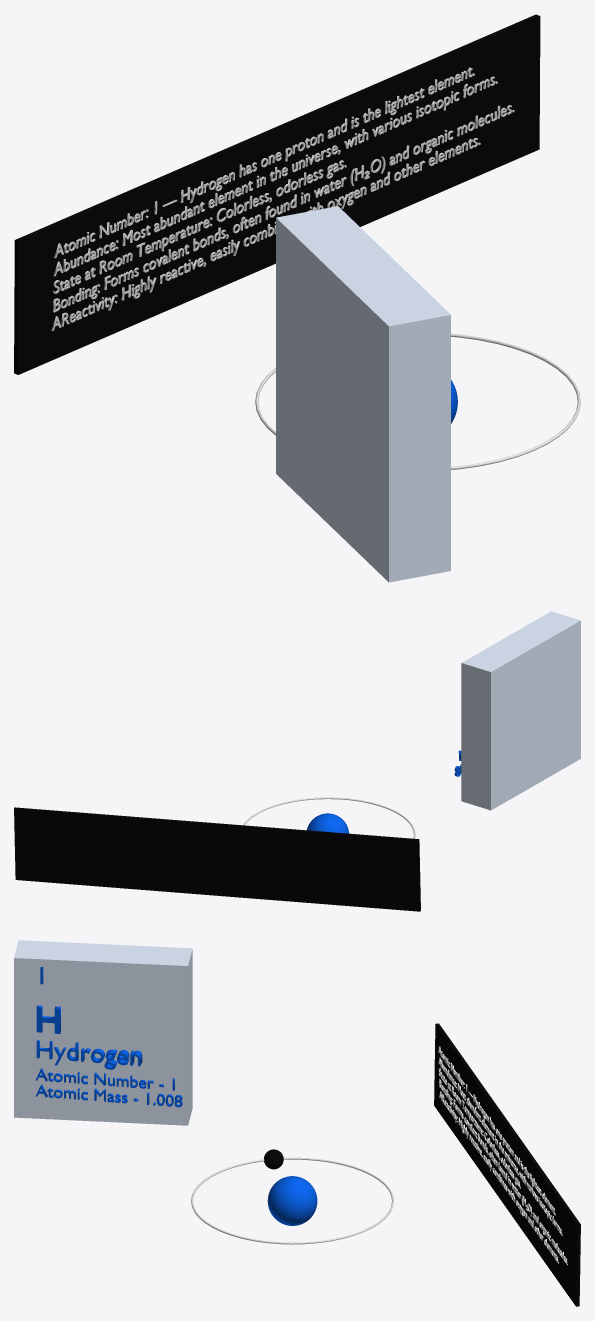
The model's file is hydrogen final.fbx.
3 views of the same model, one above another, from view 1: azimuth 30°, elevation 25°; view 2: azimuth 150°, elevation 25°; view 3: azimuth 270°, elevation 25° (orthographic). The views are drawn at different scales.
Visible parts, largest first — view 1: Cube.001, Cube, Text.003, BézierCircle; view 2: Cube.001, Cube, Sphere.002, BézierCircle; view 3: Cube, Cube.001, Text.003, Sphere.002, Text.002, Text.001, BézierCircle.
Part boxes in pixels (box(x1,y1,x2,y2)): Cube.001: box(14, 14, 540, 374); Cube: box(276, 206, 450, 582); Text.003: box(51, 67, 514, 331); BézierCircle: box(255, 333, 580, 469); Cube.001: box(14, 807, 420, 911); Cube: box(461, 611, 580, 810); Sphere.002: box(307, 813, 348, 833); BézierCircle: box(243, 797, 415, 838); Cube: box(14, 940, 192, 1125); Cube.001: box(434, 1023, 580, 1306); Text.003: box(438, 1046, 567, 1265); Sphere.002: box(267, 1176, 317, 1225); Text.002: box(35, 1068, 182, 1107); Text.001: box(36, 967, 142, 1069); BézierCircle: box(191, 1157, 393, 1244).
Size of the model in its own units: 914 by 456 by 1128.
